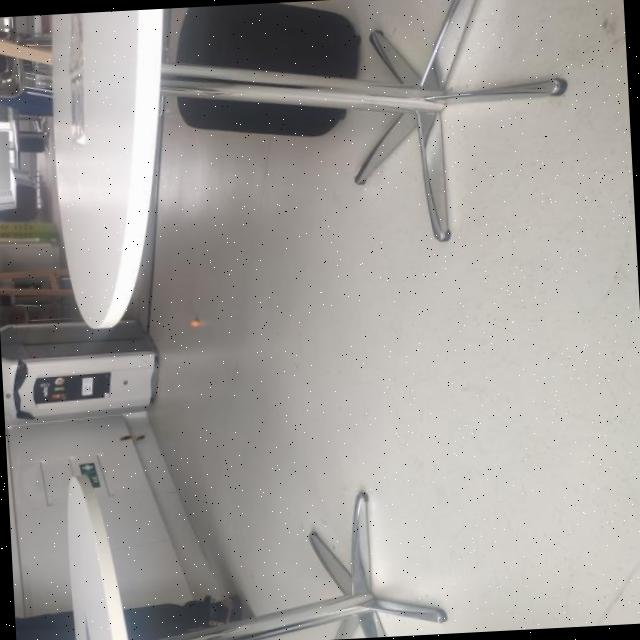ping-pong-ball: (190, 318, 200, 327)
